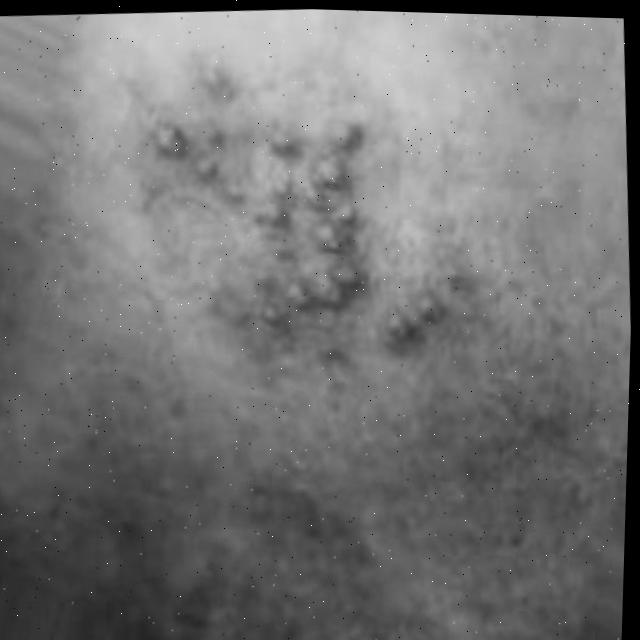Shingles: (142, 104, 475, 366)
